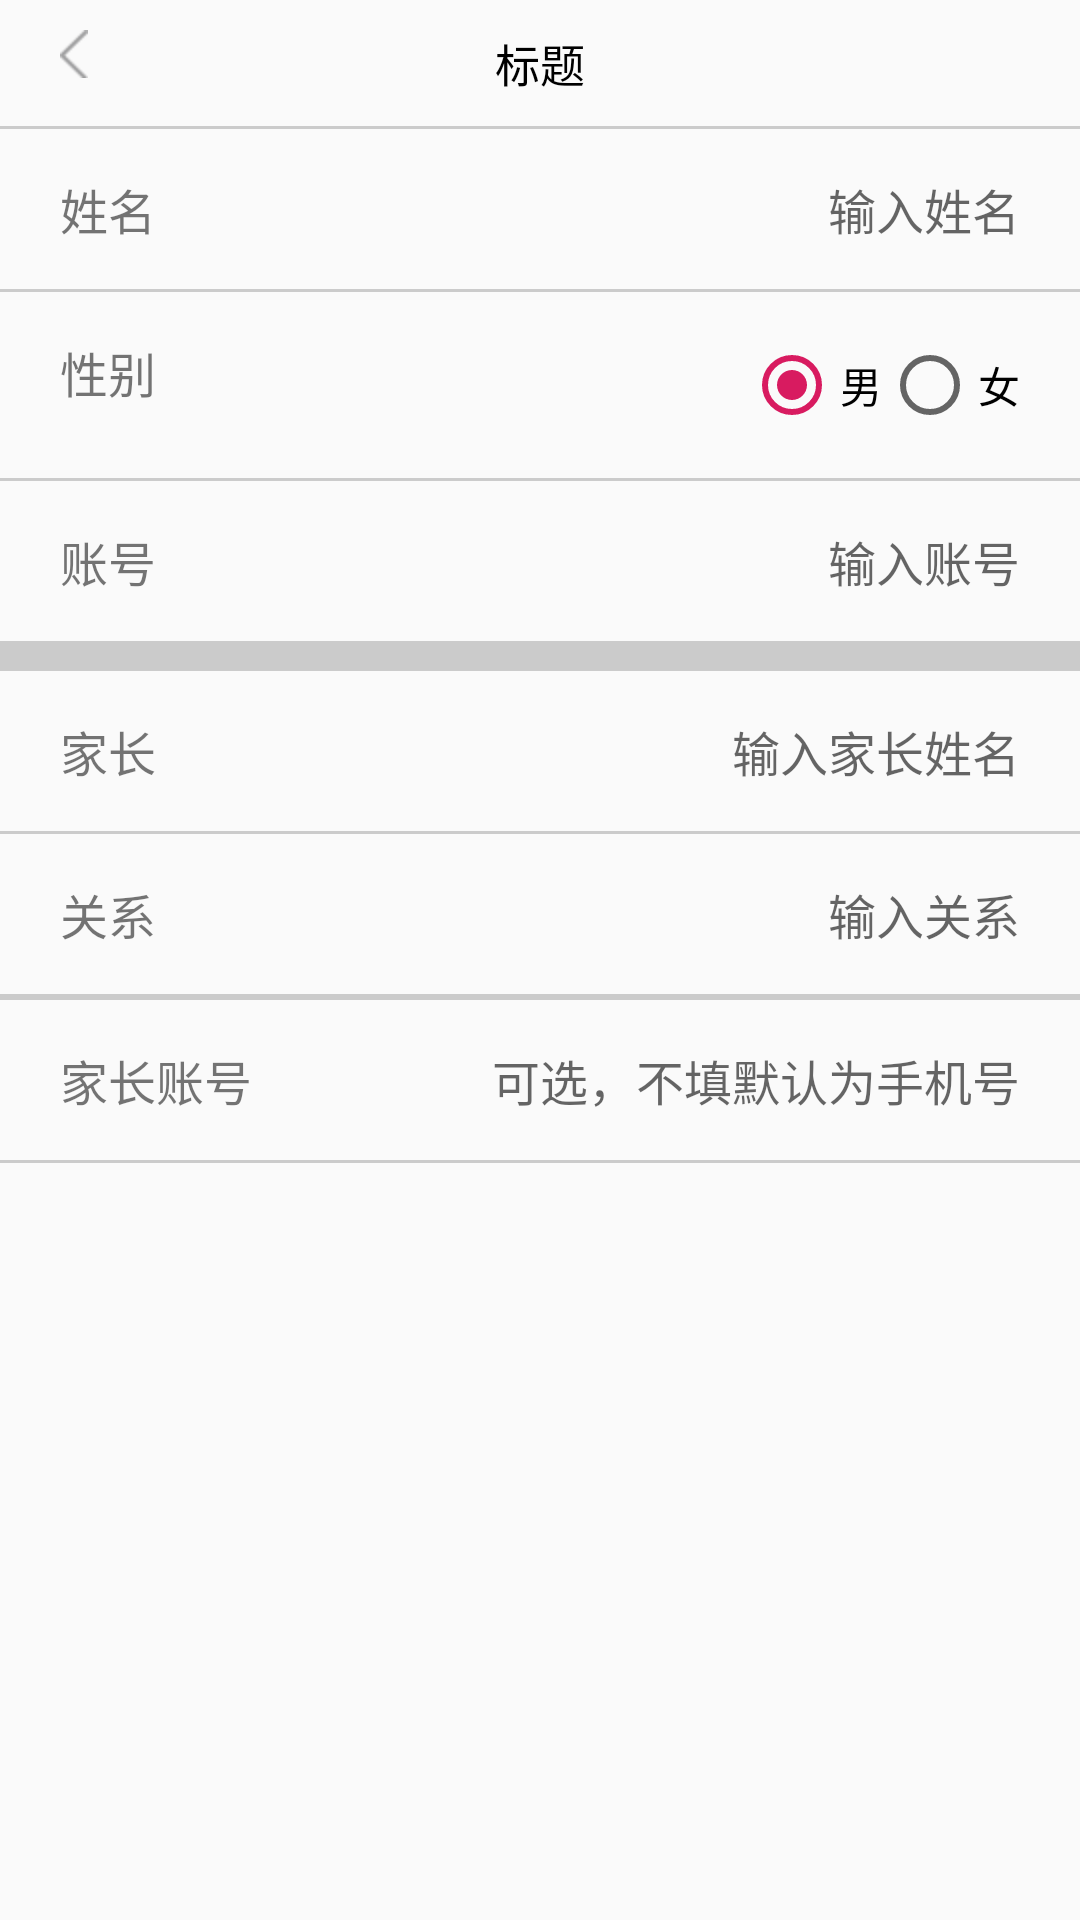

Screen size 1080×1920. Icon name, then its center in pixels as point (x, y):
back: point (74, 54)
